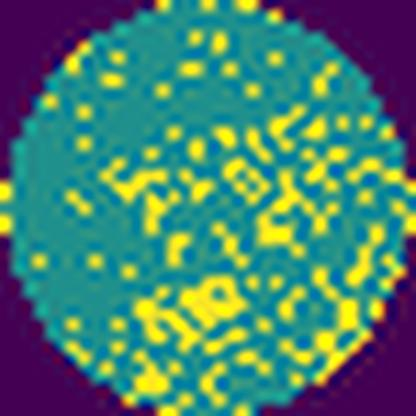Edge-Loc: (251, 166, 337, 250), (134, 286, 204, 353), (179, 271, 249, 330)
